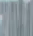No waiting: (2, 2, 32, 33)
